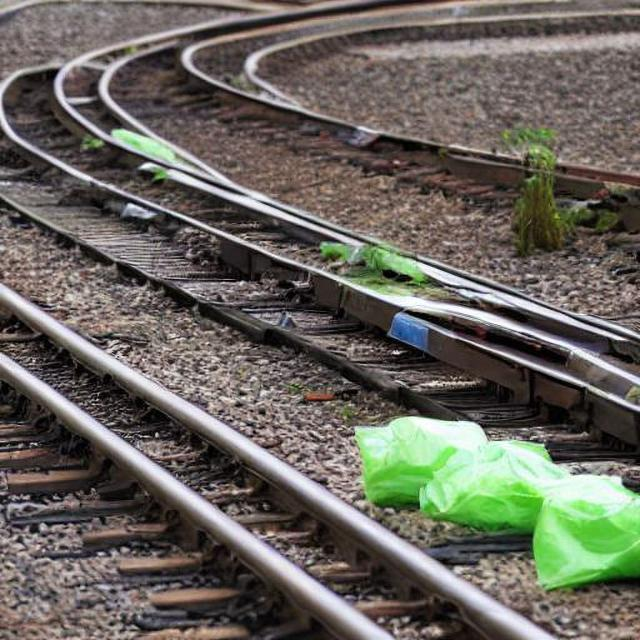plastic bag: (363, 415, 627, 580)
